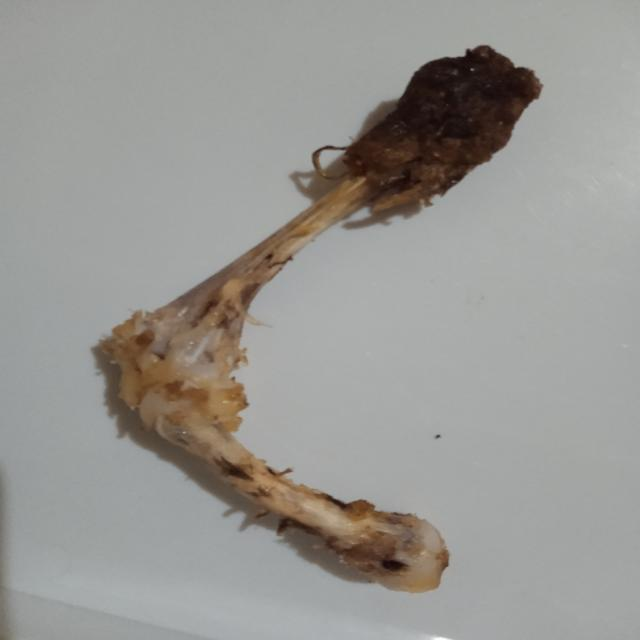bone: (82, 38, 556, 600)
